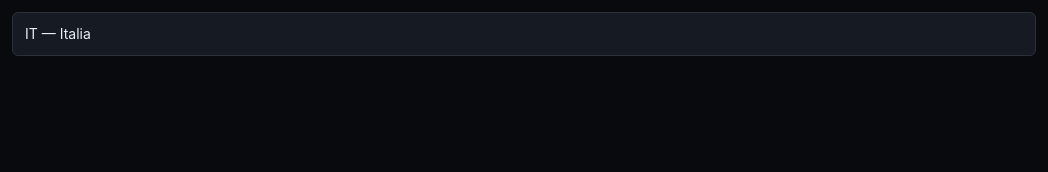
CountrySelect › dice quando nessun paese corrisponde
Later steps or results of the test are not shown.
Replace the text in the dropdown with "zzzz" at (524, 34), box 12,12 -> 1036,56
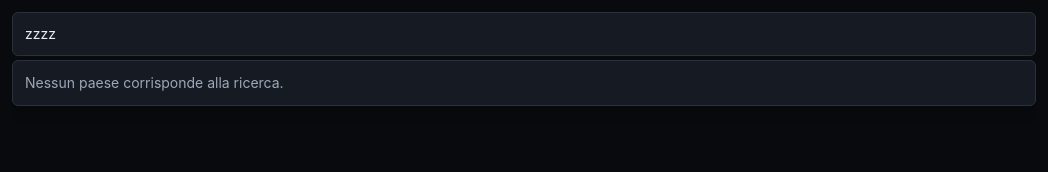
Result: the list item "Nessun paese corrisponde alla ricerca." is shown at 25,74 -> 284,91
